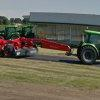Tractor: (61, 24, 100, 64)
